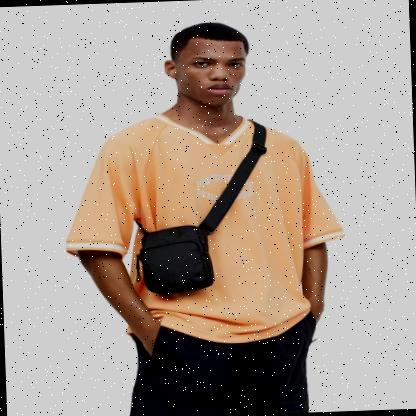bag: (134, 214, 223, 302)
person: (51, 12, 357, 416)
